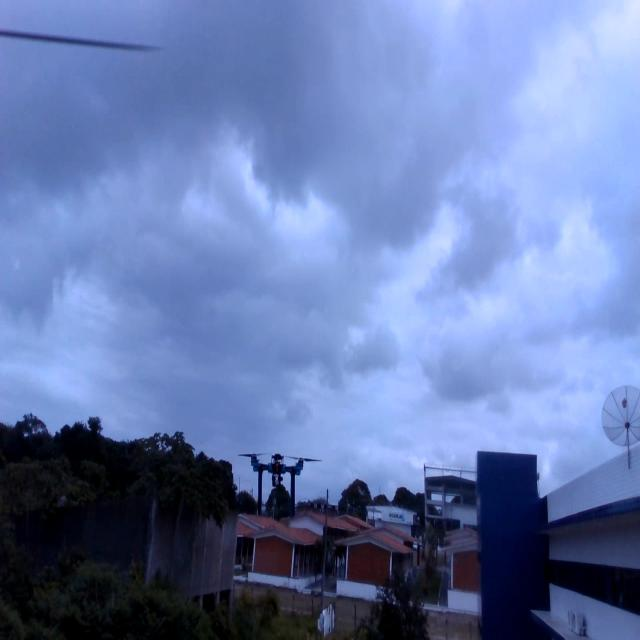-uav-: (232, 446, 330, 526)
